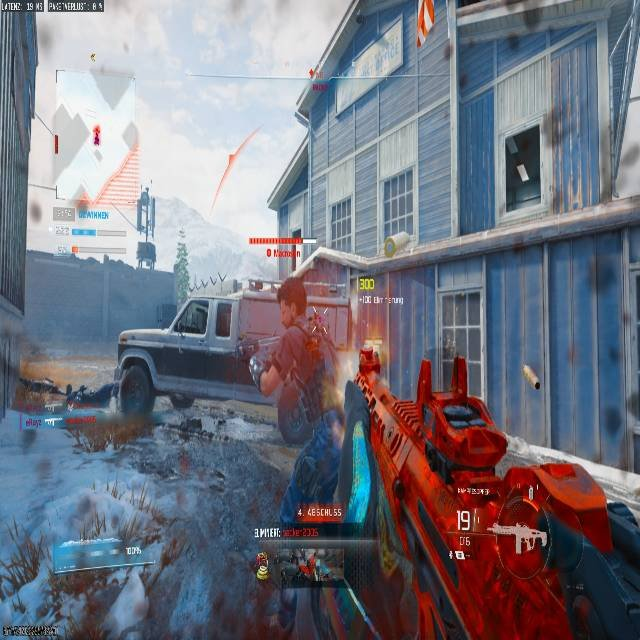head: (276, 278, 307, 327)
player: (250, 276, 348, 580)
